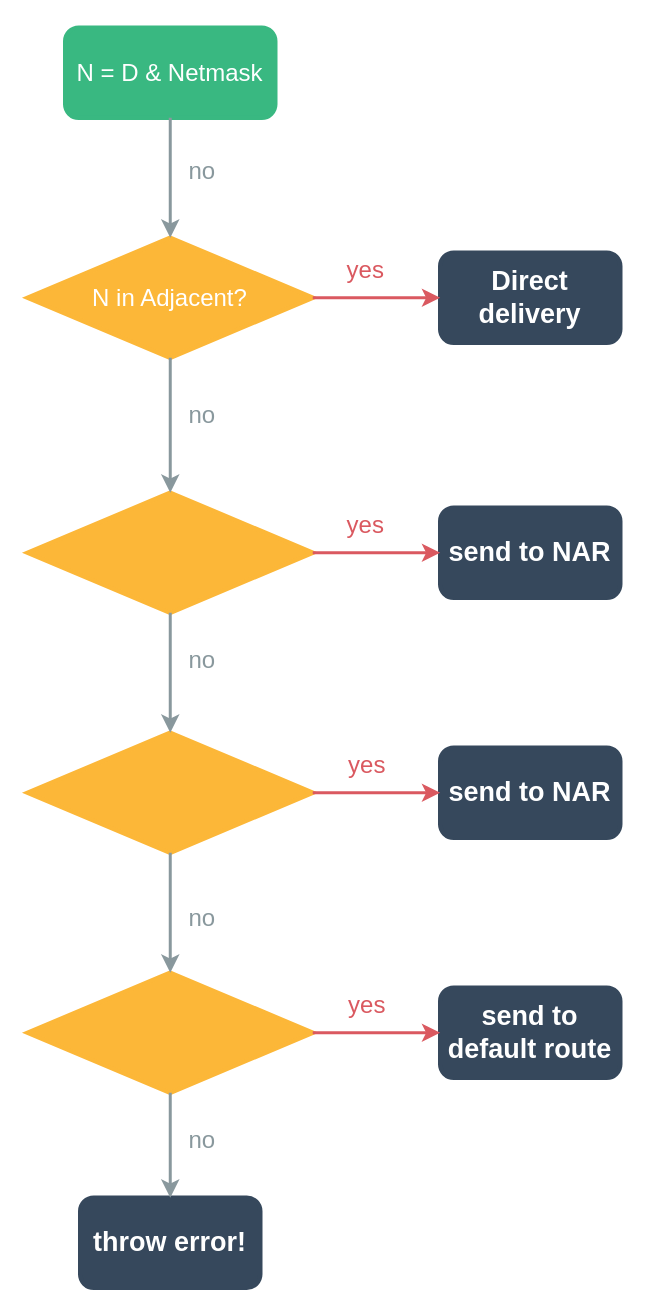
Some shapes in this 648 by 1316 pixel diagram are drawn without their labels. The shapes that lost their labels are listed below. From the top down, each one's centre as x and y in pixels, then its label:
At pixel 169 552: "D in Specific route?".
At pixel 169 792: "N in route?".
At pixel 169 1032: "has default route?".
